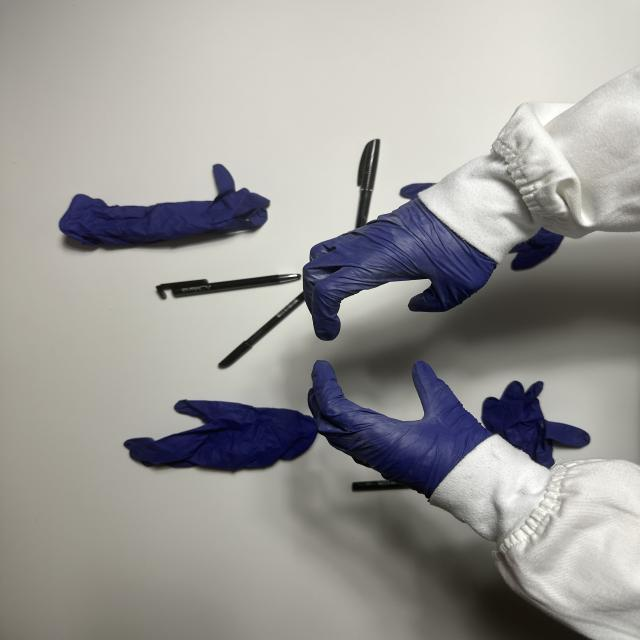gloves_contaminated: (303, 200, 496, 340), (308, 360, 491, 498)
